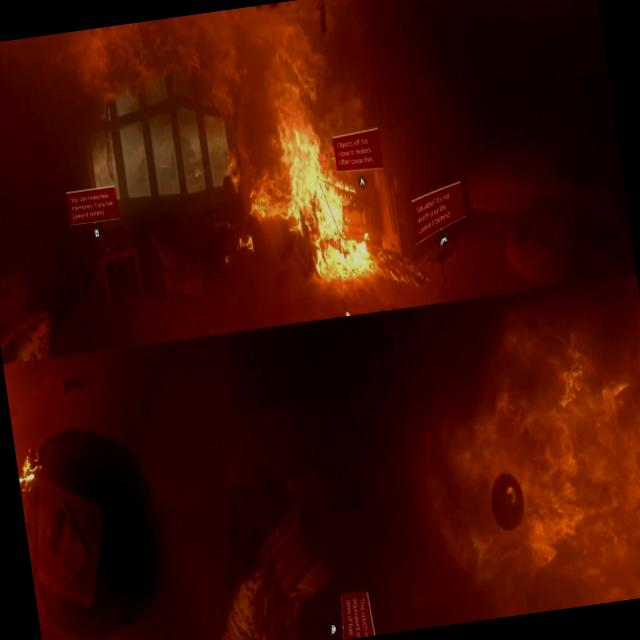fire: (204, 6, 378, 289)
